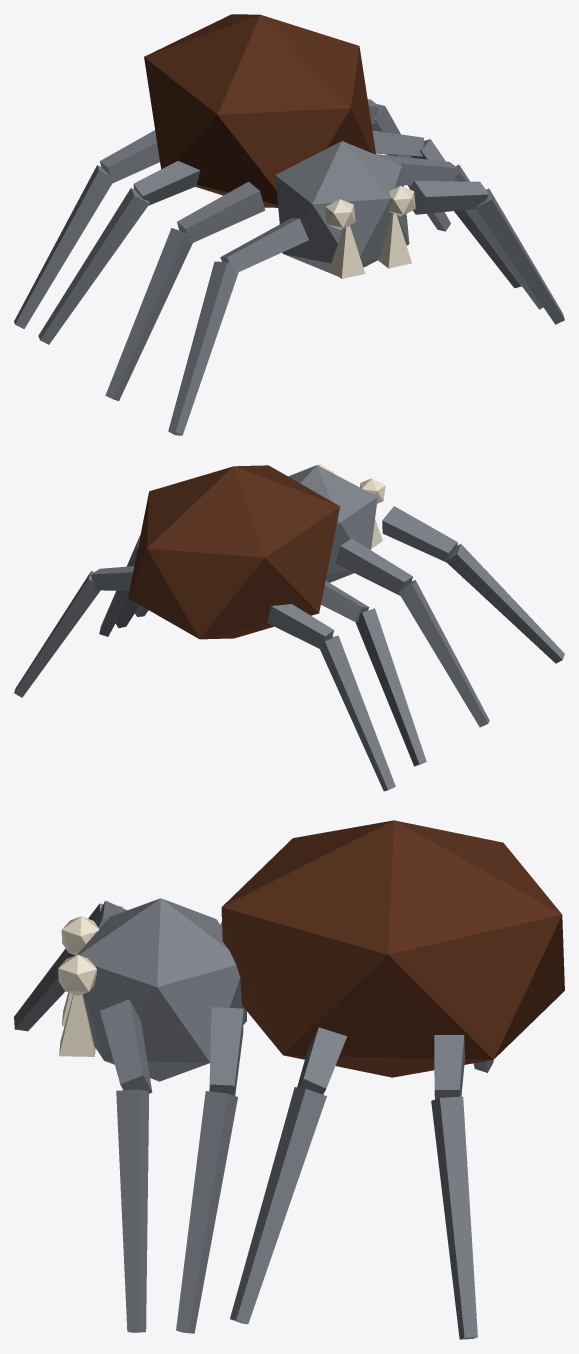
File: npcpose_spider_walk_11.glb
3 views of the same model, one above another, from view 1: azimuth 30°, elevation 25°; view 2: azimuth 150°, elevation 25°; view 3: azimuth 270°, elevation 25° (orthographic). The views are drawn at different scales.
Parts seen in each view (by area): view 1: npcpose; view 2: npcpose; view 3: npcpose.
Boxes of the visible parts, box(x1,y1,x2,y2) form: npcpose: box(14, 14, 564, 435); npcpose: box(14, 464, 564, 791); npcpose: box(14, 820, 564, 1339).
Bounding box in the file's own units: 1.36 × 0.8386 × 1.09.
